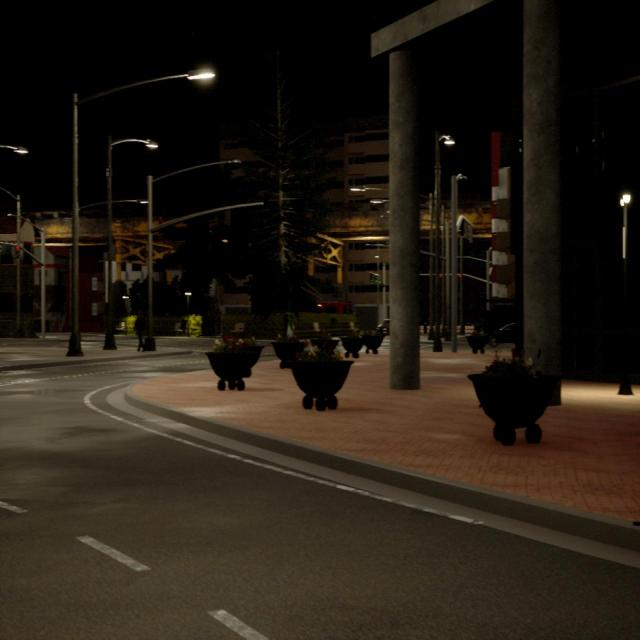Pedestrian: (135, 311, 145, 352), (287, 314, 294, 342)
Vehicle: (490, 323, 521, 347), (316, 301, 352, 314), (376, 320, 390, 336)
traffic_light: (374, 274, 378, 282), (378, 277, 382, 284), (370, 274, 373, 282), (438, 273, 442, 278), (458, 274, 462, 278), (16, 246, 20, 250)
